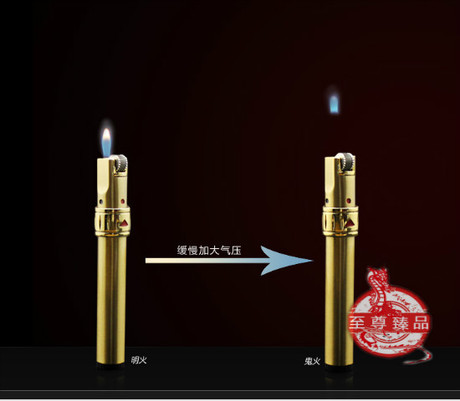fire: (96, 120, 124, 163), (324, 86, 347, 119)
